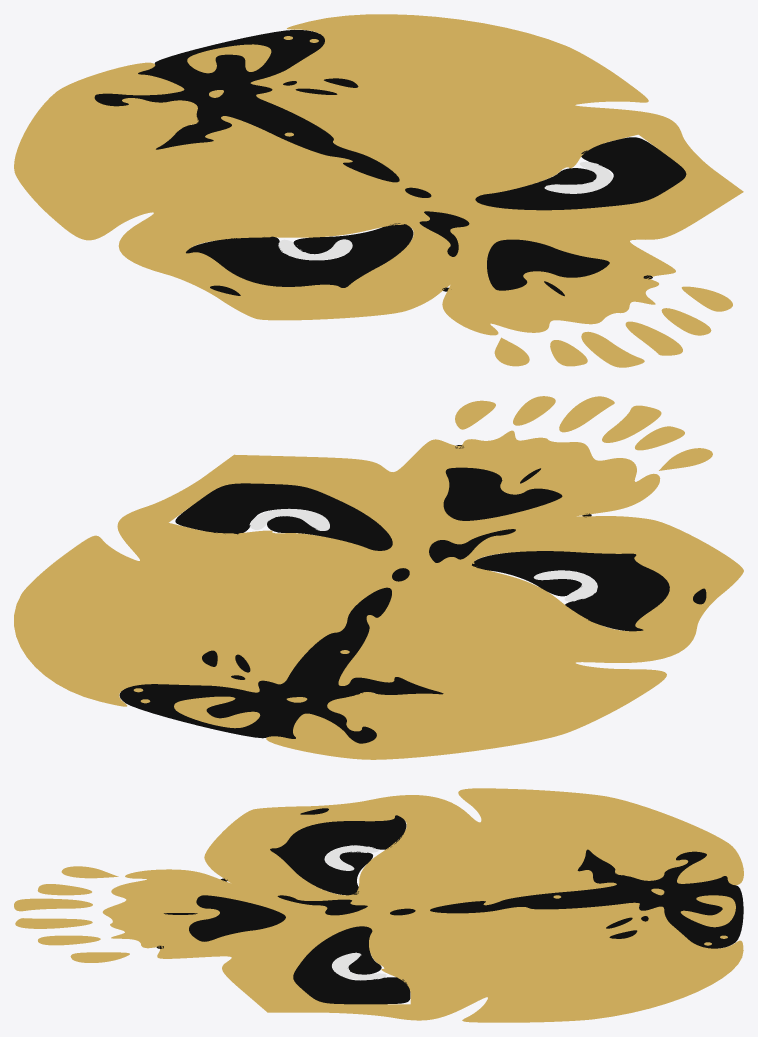
File: proxtatikoz.gltf
The picture shows the model from 3 angles, top to bottom: view 1: azimuth 30°, elevation 25°; view 2: azimuth 150°, elevation 25°; view 3: azimuth 270°, elevation 25°; orthographic projection. The views are drawn at different scales.
Visible parts, largest first — view 1: Curve.002; view 2: Curve.002; view 3: Curve.002.
Boxes of the visible parts, box(x1,y1,x2,y2) form: Curve.002: box(14, 14, 743, 367); Curve.002: box(14, 396, 743, 759); Curve.002: box(14, 788, 743, 1022).
Size of the model in its own units: 0.9865 by 0 by 1.3.
